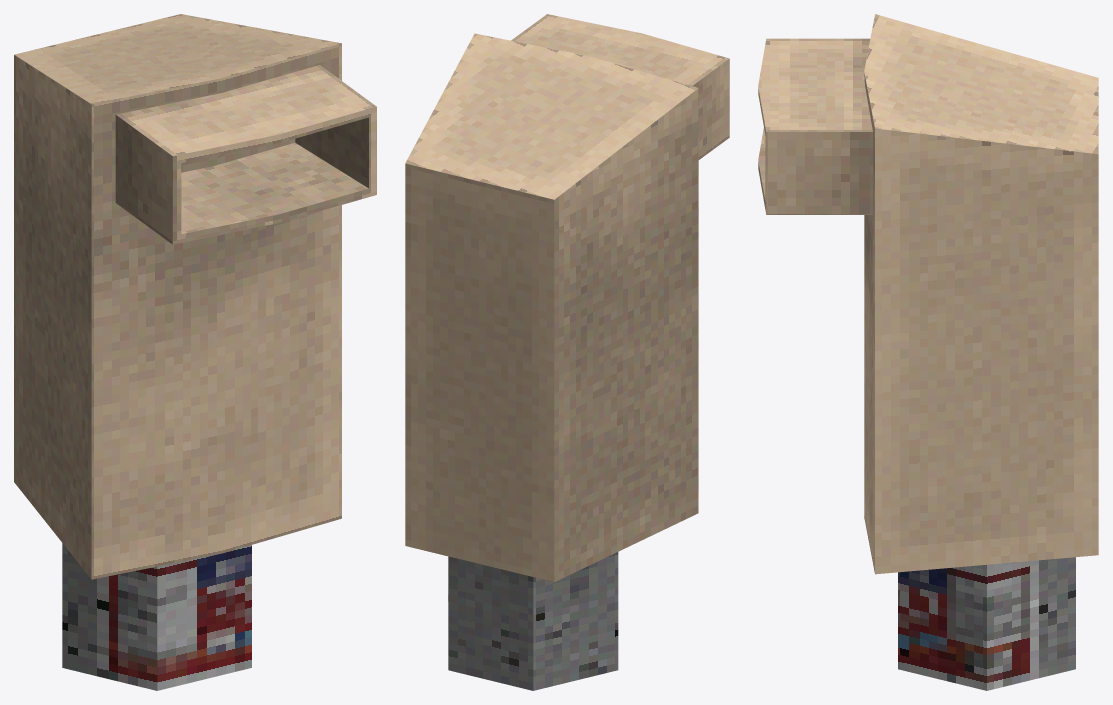
The model's file is Med_15.glb.
The picture shows the model from 3 angles, left to right: view 1: azimuth 30°, elevation 25°; view 2: azimuth 150°, elevation 25°; view 3: azimuth 270°, elevation 25°; orthographic projection. The views are drawn at different scales.
Parts seen in each view (by area): view 1: Med_15; view 2: Med_15; view 3: Med_15.
Boxes of the visible parts, <box> form: Med_15: <box>14,14,376,690</box>; Med_15: <box>405,14,729,690</box>; Med_15: <box>758,14,1098,690</box>.
Size of the model in its own units: 6.49 by 15.23 by 8.16.
1 material, 1 textured.
